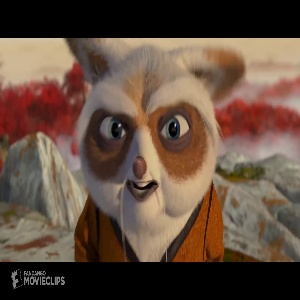shifu: (60, 38, 248, 262)
